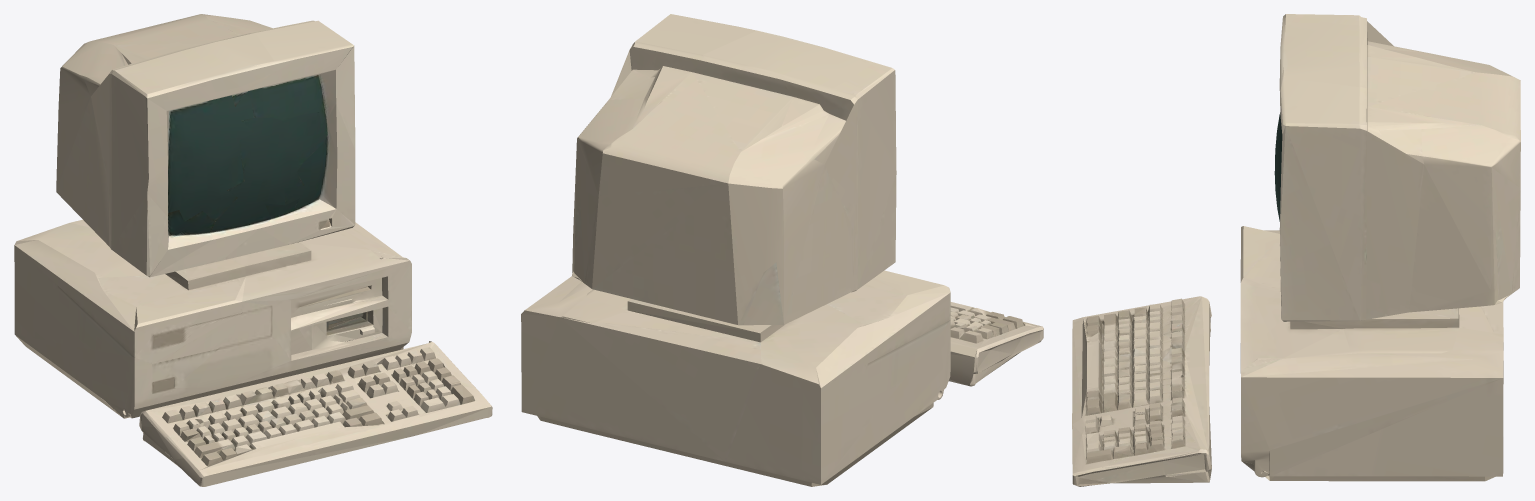
File: beigePc.glb
3 views of the same model, side by side, from view 1: azimuth 30°, elevation 25°; view 2: azimuth 150°, elevation 25°; view 3: azimuth 270°, elevation 25° (orthographic). The views are drawn at different scales.
Bounding box in the file's own units: 1.56 × 1.61 × 1.9.
1 material, 1 textured.
